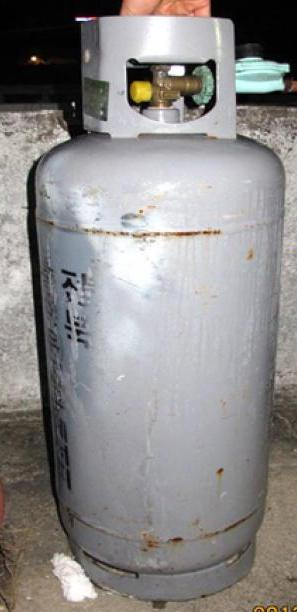cylinder: (0, 1, 297, 612)
